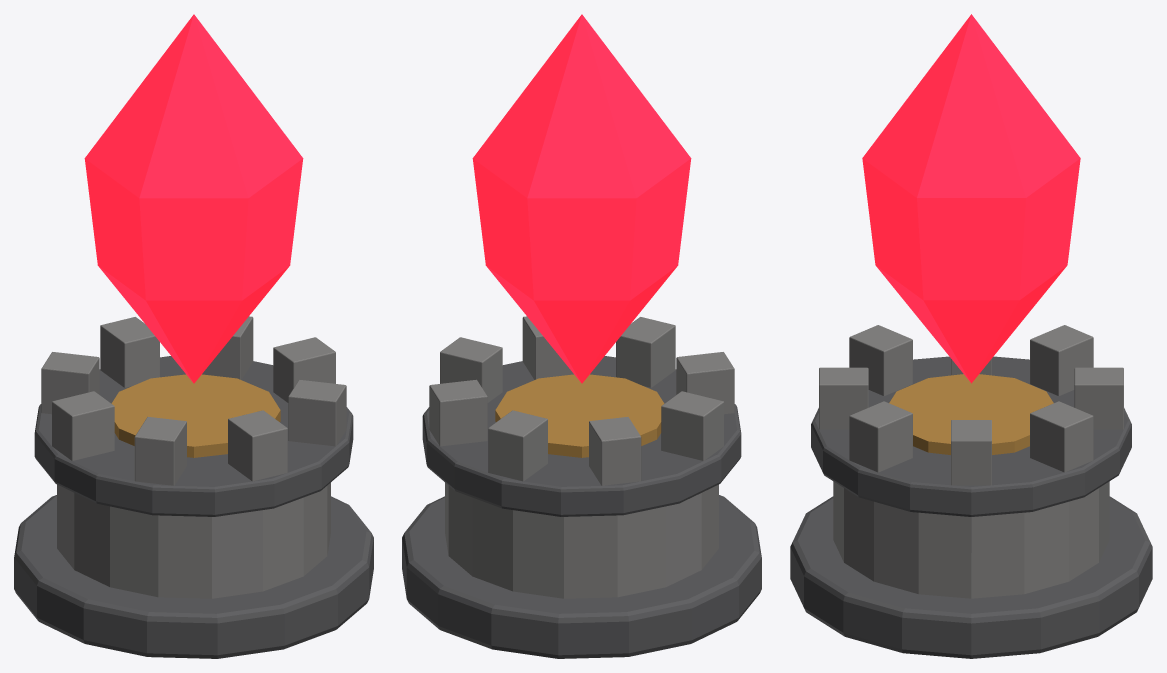
File: ReferenceInspired_MagicStone_Crown.fbx
3 views of the same model, side by side, from view 1: azimuth 30°, elevation 25°; view 2: azimuth 150°, elevation 25°; view 3: azimuth 270°, elevation 25° (orthographic).
Visible parts, largest first — view 1: Core.006, Pedestal_Base, Pedestal_Body, Pedestal_Top, Pedestal_Inlay.002, Pedestal_Crenel_4, Pedestal_Crenel_6, Pedestal_Crenel_7, Pedestal_Crenel_2, Pedestal_Crenel_5, Pedestal_Crenel_0, Pedestal_Crenel_3 (+1 smaller); view 2: Core.006, Pedestal_Base, Pedestal_Body, Pedestal_Top, Pedestal_Inlay.002, Pedestal_Crenel_4, Pedestal_Crenel_2, Pedestal_Crenel_1, Pedestal_Crenel_6, Pedestal_Crenel_3, Pedestal_Crenel_0, Pedestal_Crenel_5 (+1 smaller); view 3: Core.006, Pedestal_Base, Pedestal_Body, Pedestal_Top, Pedestal_Inlay.002, Pedestal_Crenel_1, Pedestal_Crenel_7, Pedestal_Crenel_3, Pedestal_Crenel_5, Pedestal_Crenel_2, Pedestal_Crenel_6, Pedestal_Crenel_0.
Boxes of the visible parts, left/top/right/bottom form: Core.006: left=84, top=14, right=303, bottom=383; Pedestal_Base: left=14, top=495, right=373, bottom=658; Pedestal_Body: left=57, top=482, right=330, bottom=598; Pedestal_Top: left=34, top=356, right=353, bottom=516; Pedestal_Inlay.002: left=111, top=374, right=280, bottom=457; Pedestal_Crenel_4: left=52, top=391, right=114, bottom=460; Pedestal_Crenel_6: left=228, top=410, right=287, bottom=481; Pedestal_Crenel_7: left=288, top=379, right=346, bottom=446; Pedestal_Crenel_2: left=100, top=317, right=159, bottom=387; Pedestal_Crenel_5: left=134, top=417, right=186, bottom=485; Pedestal_Crenel_0: left=273, top=337, right=335, bottom=402; Pedestal_Crenel_3: left=41, top=352, right=99, bottom=414; Core.006: left=472, top=14, right=691, bottom=383; Pedestal_Base: left=402, top=495, right=761, bottom=658; Pedestal_Body: left=445, top=482, right=718, bottom=598; Pedestal_Top: left=422, top=356, right=741, bottom=516; Pedestal_Inlay.002: left=495, top=374, right=664, bottom=457; Pedestal_Crenel_4: left=661, top=391, right=723, bottom=460; Pedestal_Crenel_2: left=488, top=410, right=547, bottom=481; Pedestal_Crenel_1: left=429, top=379, right=487, bottom=446; Pedestal_Crenel_6: left=616, top=317, right=675, bottom=387; Pedestal_Crenel_3: left=589, top=417, right=641, bottom=485; Pedestal_Crenel_0: left=440, top=337, right=502, bottom=402; Pedestal_Crenel_5: left=676, top=352, right=734, bottom=414; Core.006: left=862, top=14, right=1080, bottom=383; Pedestal_Base: left=790, top=496, right=1152, bottom=658; Pedestal_Body: left=833, top=481, right=1109, bottom=598; Pedestal_Top: left=811, top=356, right=1131, bottom=516; Pedestal_Inlay.002: left=889, top=374, right=1053, bottom=454; Pedestal_Crenel_1: left=1030, top=401, right=1093, bottom=472; Pedestal_Crenel_7: left=849, top=401, right=912, bottom=472; Pedestal_Crenel_3: left=1030, top=325, right=1093, bottom=395; Pedestal_Crenel_5: left=849, top=325, right=912, bottom=395; Pedestal_Crenel_2: left=1074, top=367, right=1123, bottom=429; Pedestal_Crenel_6: left=819, top=367, right=868, bottom=429; Pedestal_Crenel_0: left=951, top=420, right=991, bottom=485.
Size of the model in its own units: 1.76 by 3.06 by 1.76.
